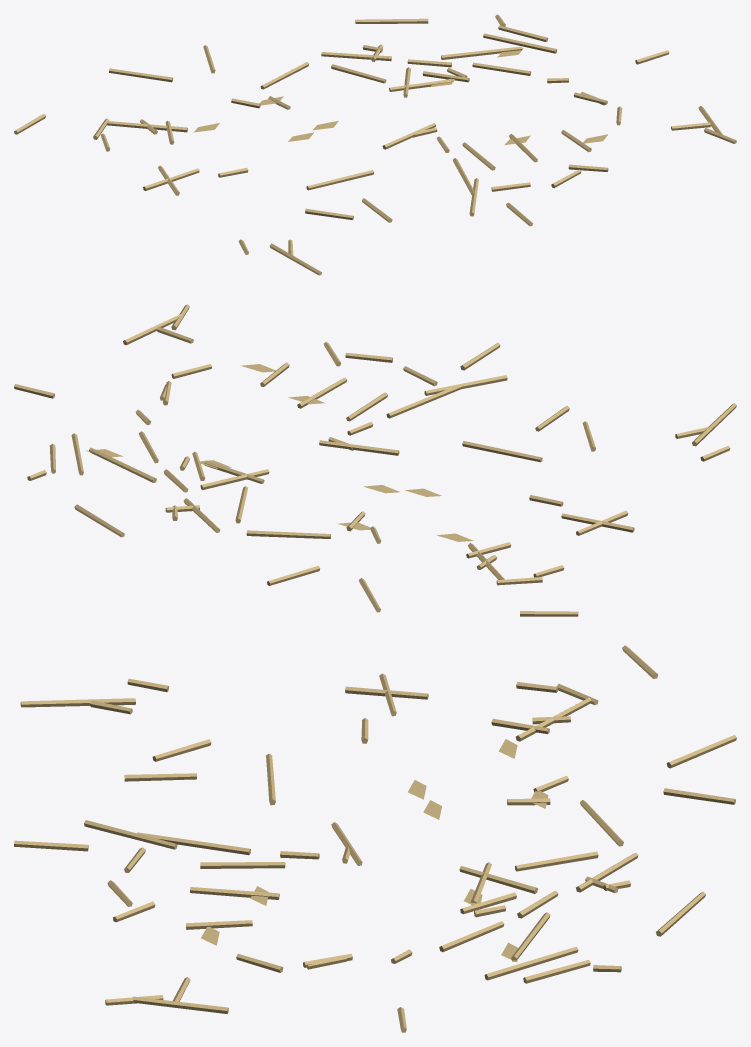
The picture shows the model from 3 angles, top to bottom: view 1: azimuth 30°, elevation 25°; view 2: azimuth 150°, elevation 25°; view 3: azimuth 270°, elevation 25°; orthographic projection. The views are drawn at different scales.
Visible parts, largest first — view 1: BA-0075 batched; view 2: BA-0075 batched; view 3: BA-0075 batched.
Part boxes in pixels (x1,y1,x2,y2): BA-0075 batched: [14, 14, 736, 275]; BA-0075 batched: [14, 304, 736, 616]; BA-0075 batched: [14, 645, 736, 1032].
Size of the model in its own units: 1.52 by 0.0133 by 1.21.
